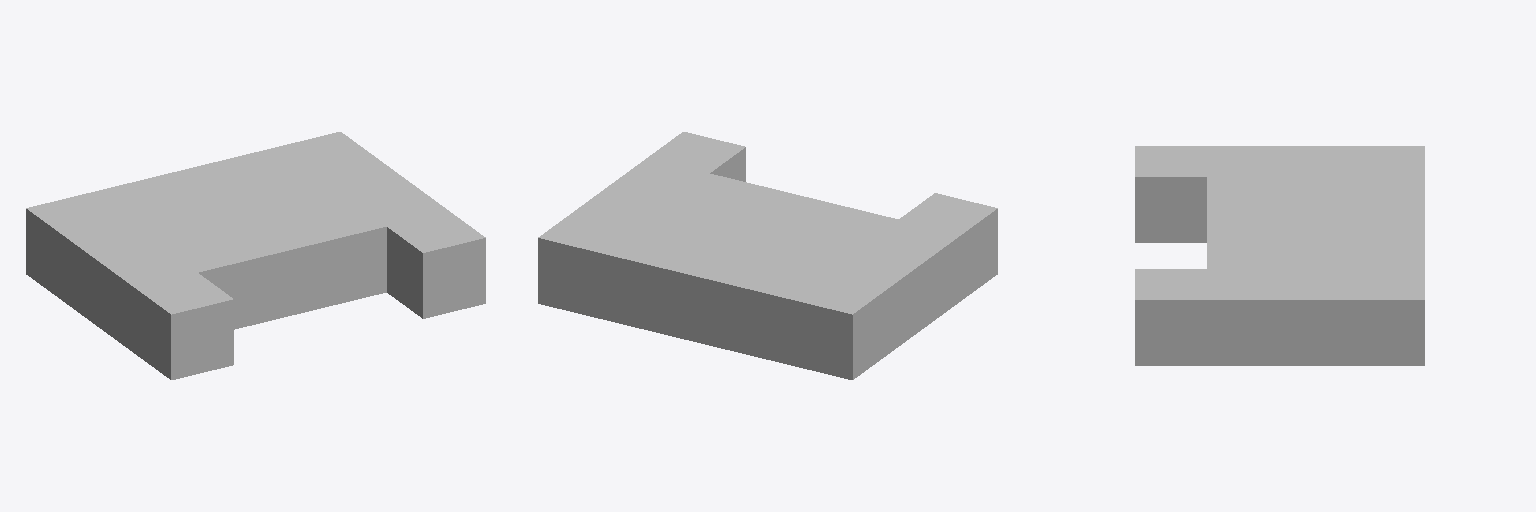
Rendered from 3D Voxel Office Pack-61.obj.
The picture shows the model from 3 angles: view 1: azimuth 30°, elevation 25°; view 2: azimuth 150°, elevation 25°; view 3: azimuth 270°, elevation 25°; orthographic projection.
Parts seen in each view (by area): view 1: object 1; view 2: object 1; view 3: object 1.
Part boxes in pixels (x1,y1,x2,y2): object 1: (26, 132, 485, 379); object 1: (538, 132, 997, 379); object 1: (1135, 146, 1424, 365).
Size of the model in its own units: 0.5 by 0.1 by 0.4.